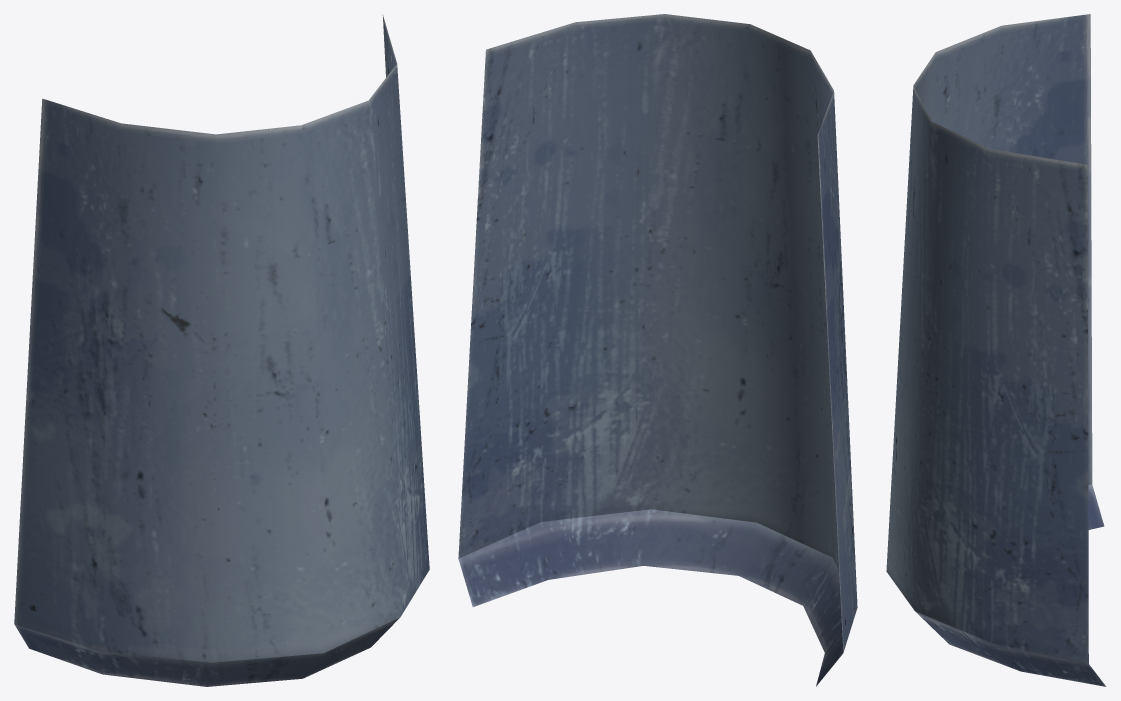
Rendered from envRoofTiles_Round_02.fbx.
3 views of the same model, side by side, from view 1: azimuth 30°, elevation 25°; view 2: azimuth 150°, elevation 25°; view 3: azimuth 270°, elevation 25° (orthographic). The views are drawn at different scales.
Visible parts, largest first — view 1: envRoofTiles_Round_02; view 2: envRoofTiles_Round_02; view 3: envRoofTiles_Round_02.
Part boxes in pixels (left/top/right/bottom): envRoofTiles_Round_02: left=14, top=14, right=429, bottom=686; envRoofTiles_Round_02: left=458, top=14, right=857, bottom=686; envRoofTiles_Round_02: left=886, top=14, right=1106, bottom=686.
Bounding box in the file's own units: 17.38 × 23.68 × 9.06.
